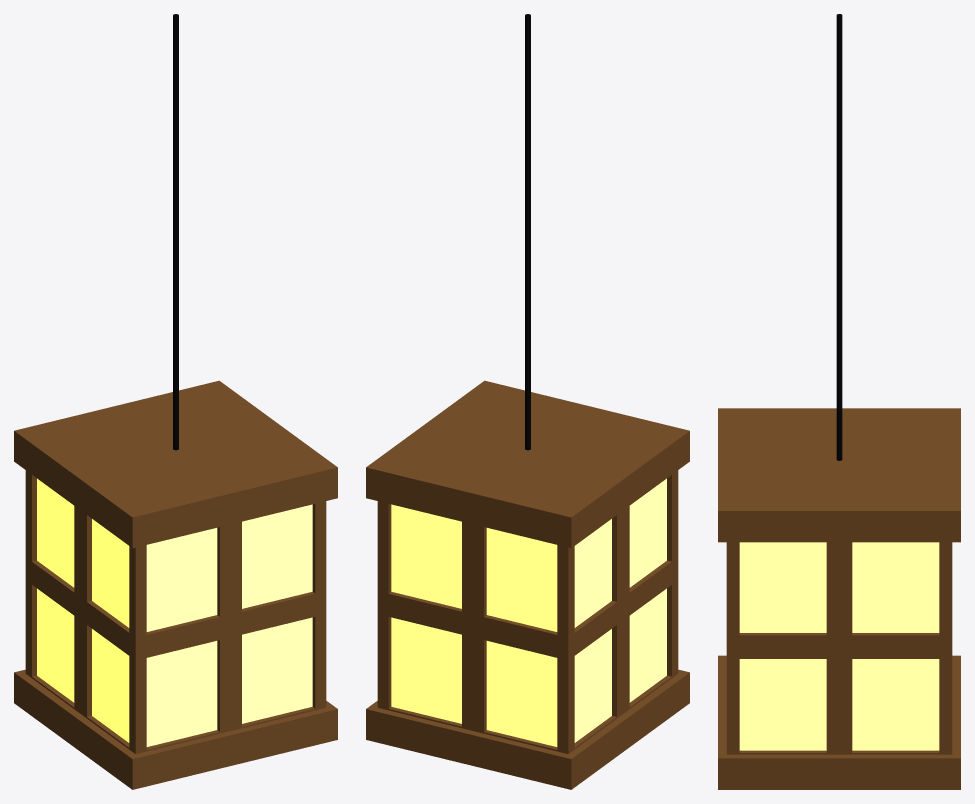
The model's file is lamp.fbx.
3 renders of one model, left to right at view 1: azimuth 30°, elevation 25°; view 2: azimuth 150°, elevation 25°; view 3: azimuth 270°, elevation 25°, orthographic. The views are drawn at different scales.
Parts seen in each view (by area): view 1: Cube, Cube.001; view 2: Cube, Cube.001; view 3: Cube, Cube.001.
Part boxes in pixels (bbox=[...]): Cube: bbox=[14, 14, 337, 789]; Cube.001: bbox=[37, 478, 312, 746]; Cube: bbox=[366, 14, 689, 789]; Cube.001: bbox=[391, 478, 666, 746]; Cube: bbox=[718, 14, 960, 789]; Cube.001: bbox=[739, 542, 939, 750].
Bounding box in the file's own units: 215 × 708 × 215.
